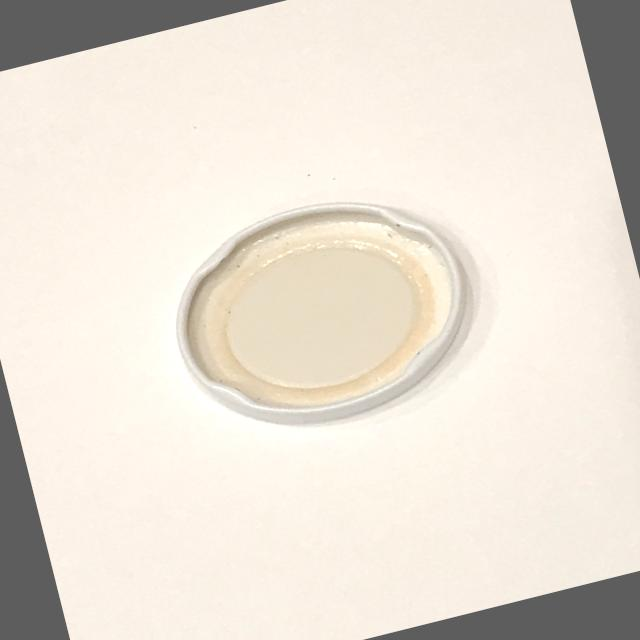Metal: (140, 152, 524, 480)
